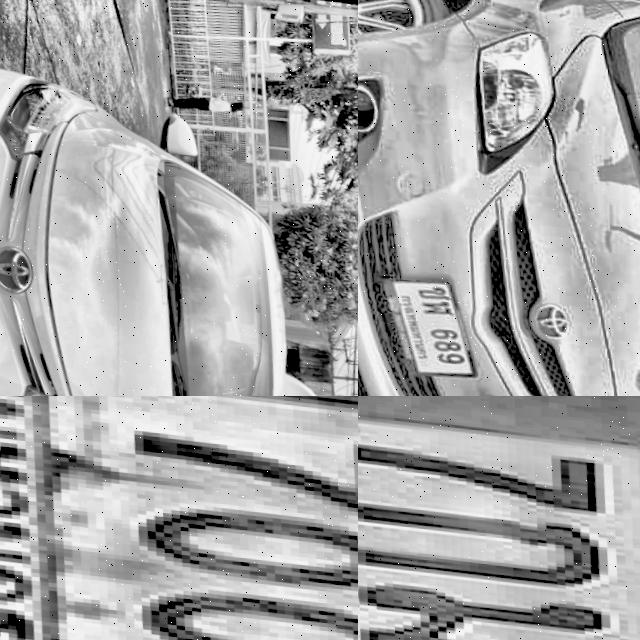license-plate: (0, 396, 358, 640), (358, 396, 640, 640), (359, 265, 472, 382)
